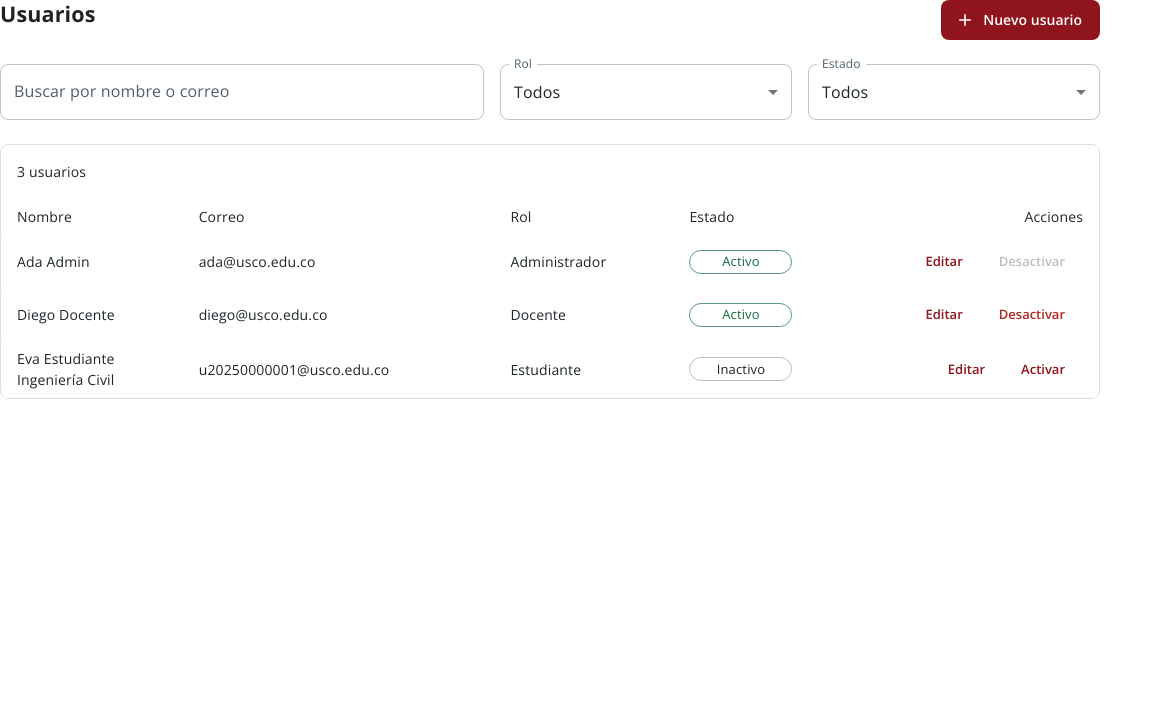
Test: UsuariosPage › edita el rol de un usuario
Expected: the text "3 usuarios" is shown, [17,162,86,181]
Click the button with aria-label "Editar a Diego Docente" at {"x": 944, "y": 315}, box [908,295,981,335]
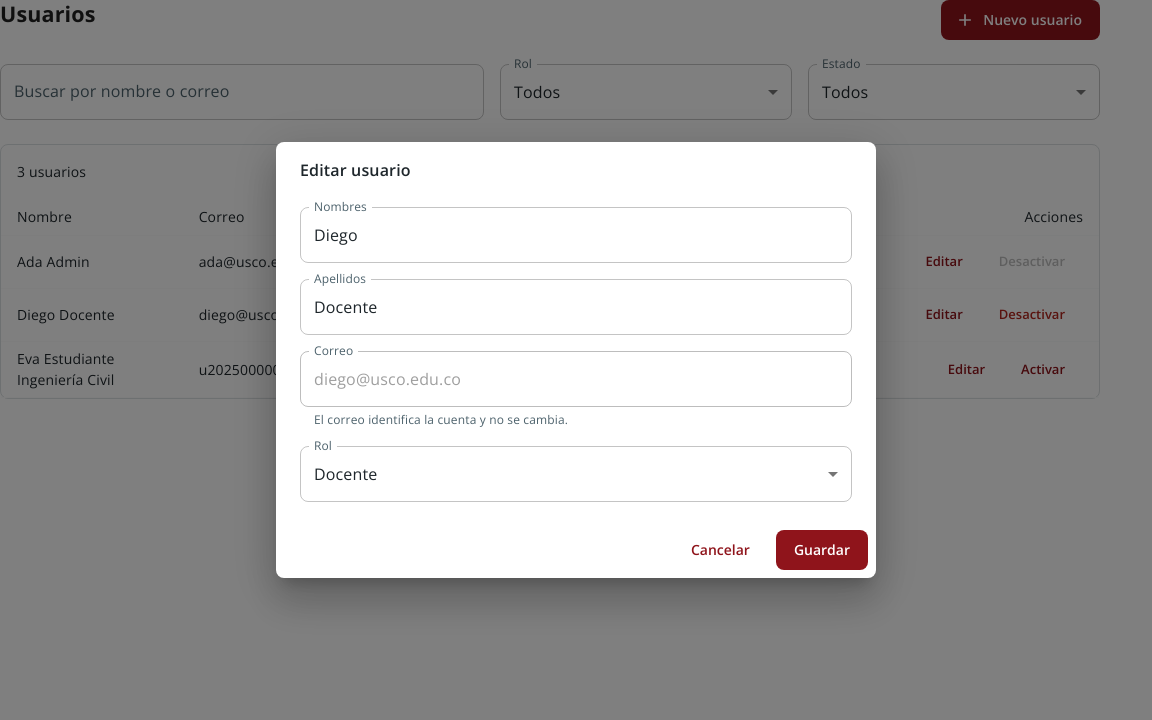
Now the field labelled "Correo" is disabled, box [300,351,852,407]
Click the dropdown named "Rol" at {"x": 346, "y": 474}, box [314,463,377,485]
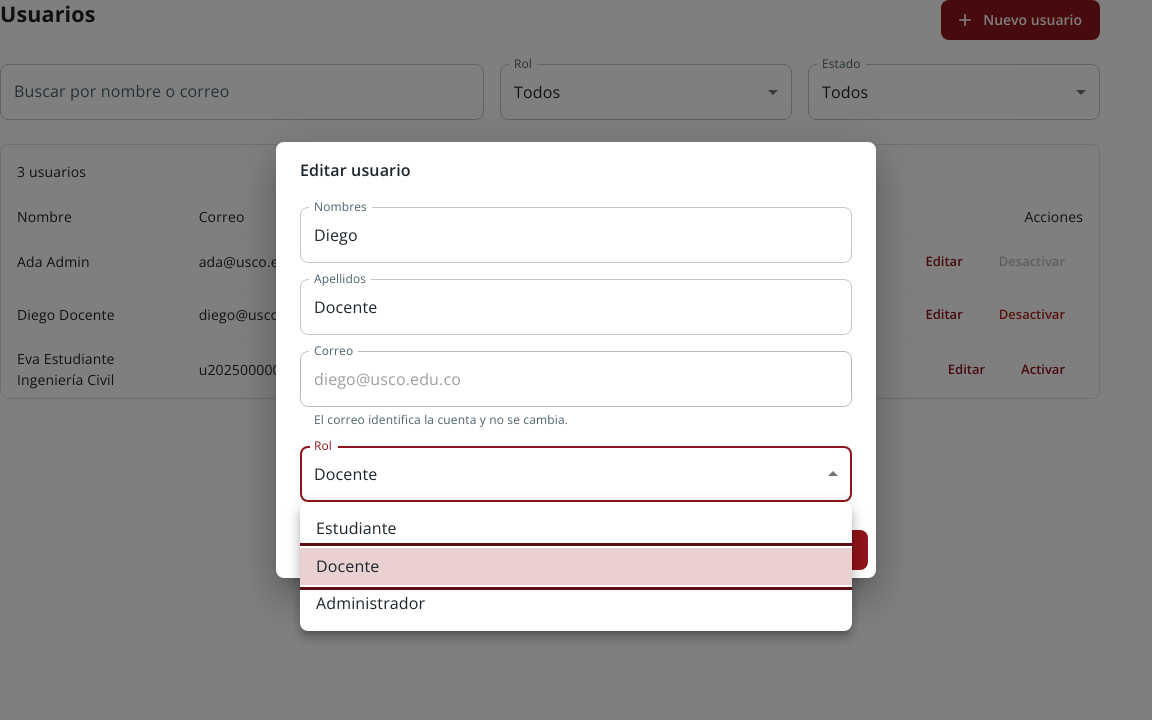
Click the option "Administrador" at {"x": 371, "y": 603}, box [316,592,425,614]
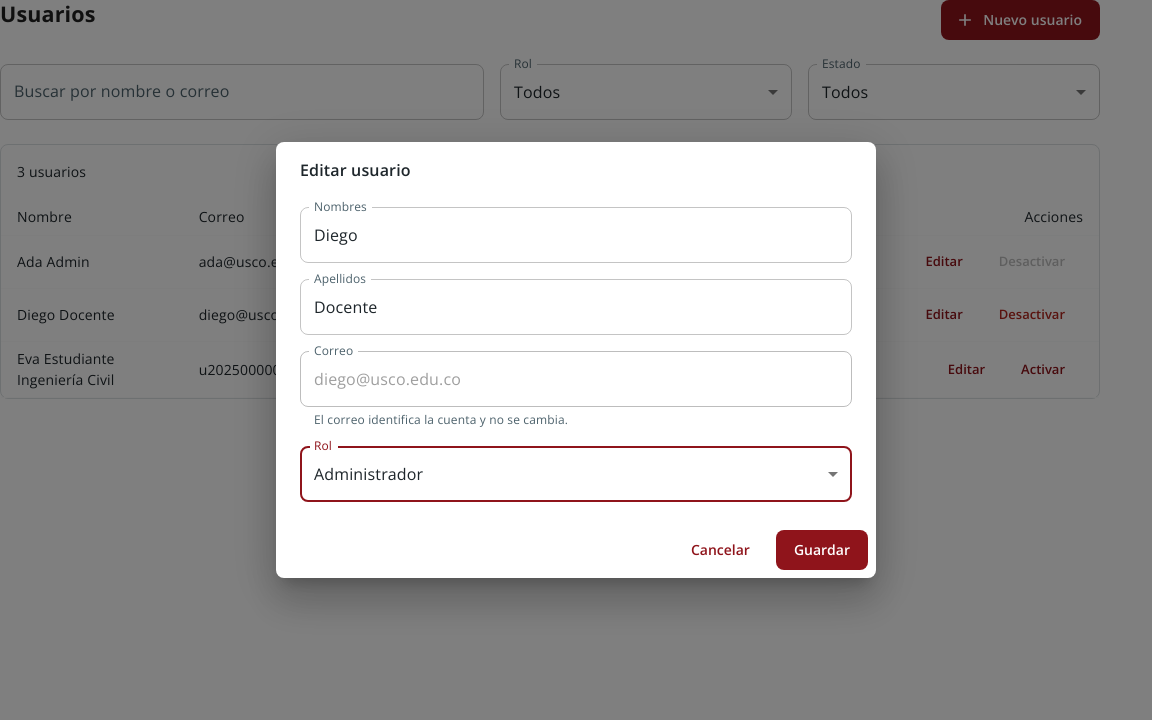
Click the button "Guardar" at {"x": 822, "y": 550}, box [776,530,868,570]
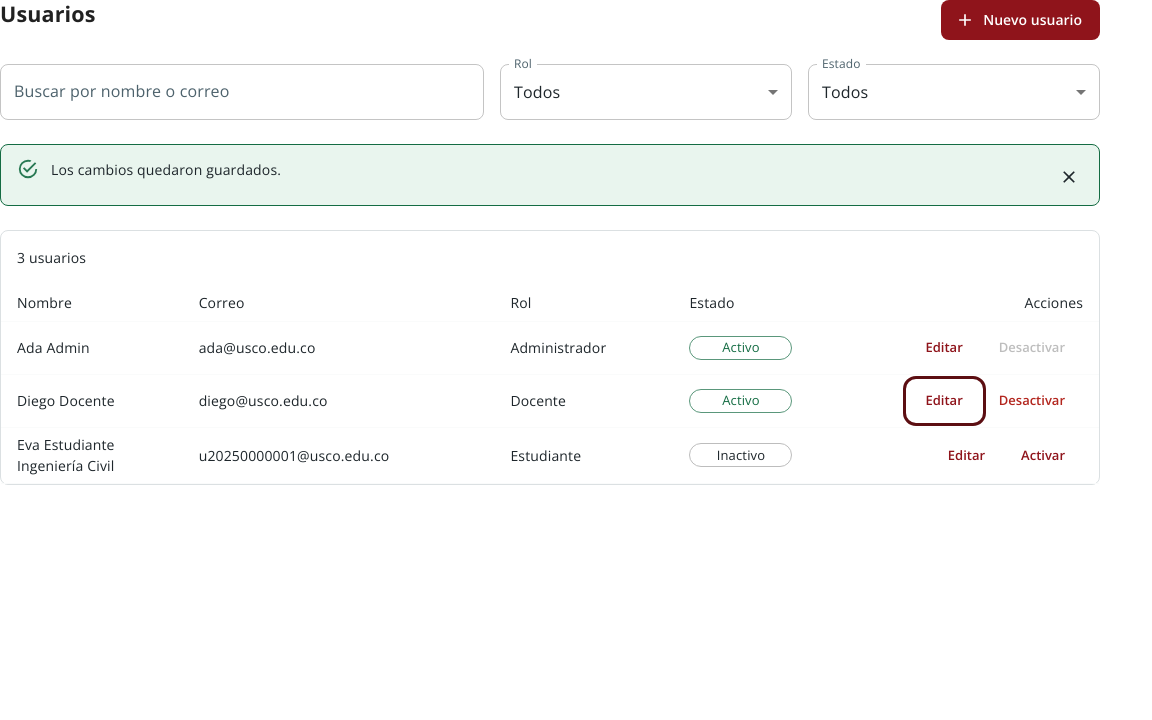
Now the text "Los cambios quedaron guardados." is shown, box [51,160,281,179]
